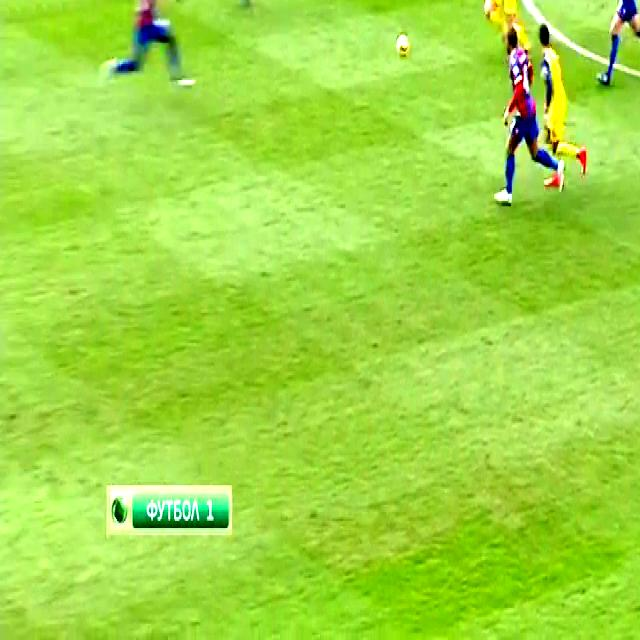ball: (398, 30, 413, 66)
referee: (213, 0, 264, 14)
soccer-player: (497, 17, 552, 208), (100, 0, 195, 96), (535, 15, 586, 190), (594, 0, 640, 87), (469, 0, 509, 25)
